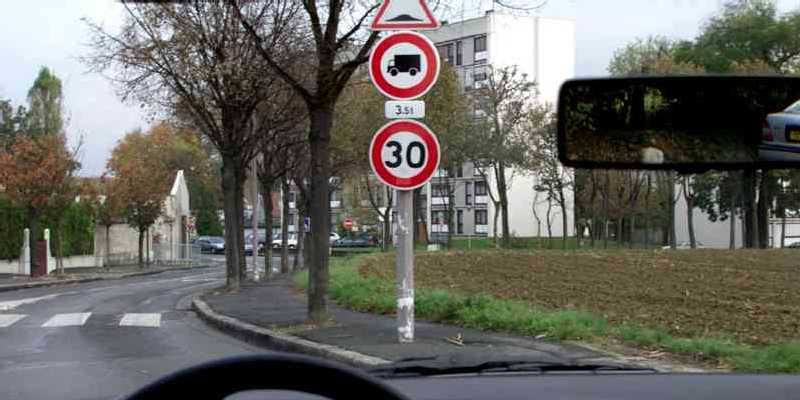Speed_limit_30km: (369, 119, 443, 189)
